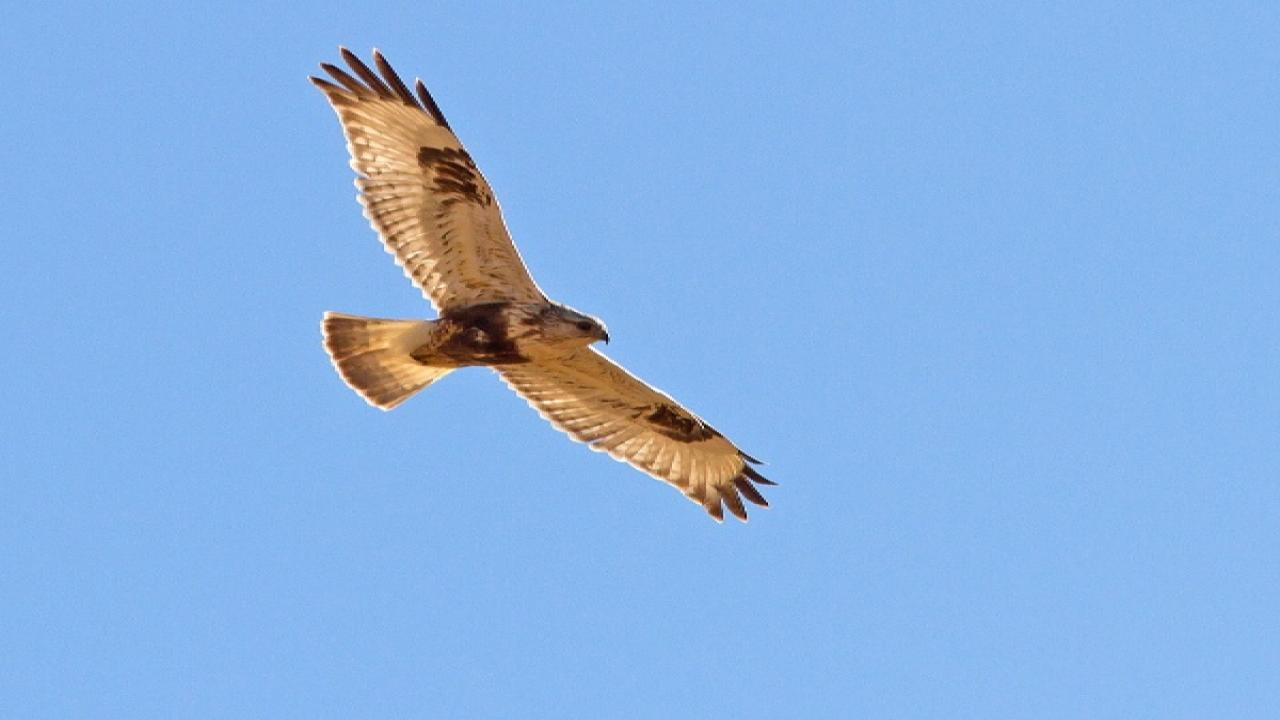Bird: (296, 40, 782, 531)
